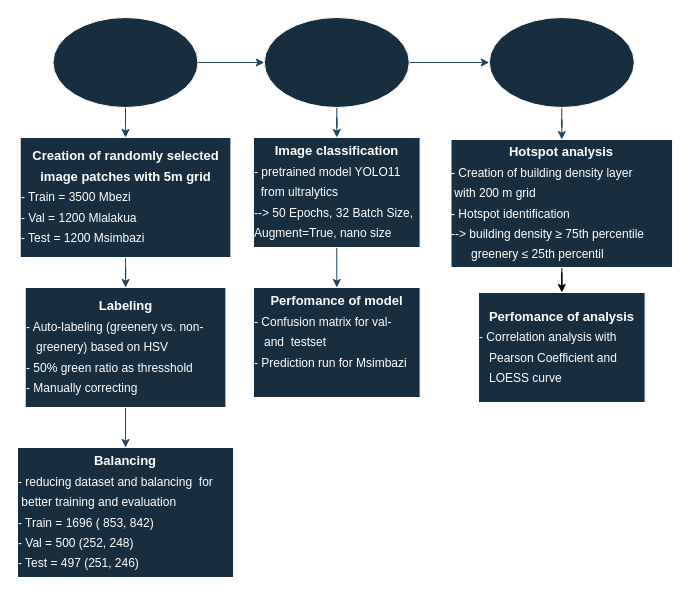
The diagram is 691 pixels wide and 595 high, and some of its shapes have lost their labels. Each missing label, with the centre of its shape:
"Application" belongs at (561,62).
"Data preparation" belongs at (125,62).
"Training & Evaluation" belongs at (336,62).
